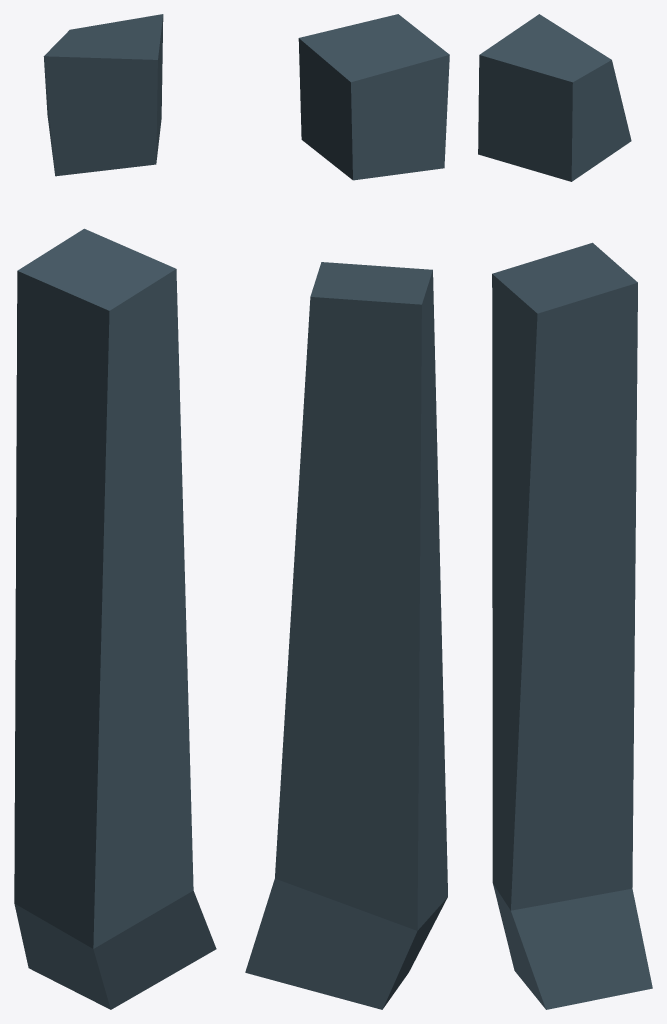
Rendered from lowercase-w.glb.
3 renders of one model, left to right at view 1: azimuth 30°, elevation 25°; view 2: azimuth 150°, elevation 25°; view 3: azimuth 270°, elevation 25°, orthographic. The views are drawn at different scales.
Bounding box in the file's own units: 0.0598 × 0.3102 × 0.0528.
